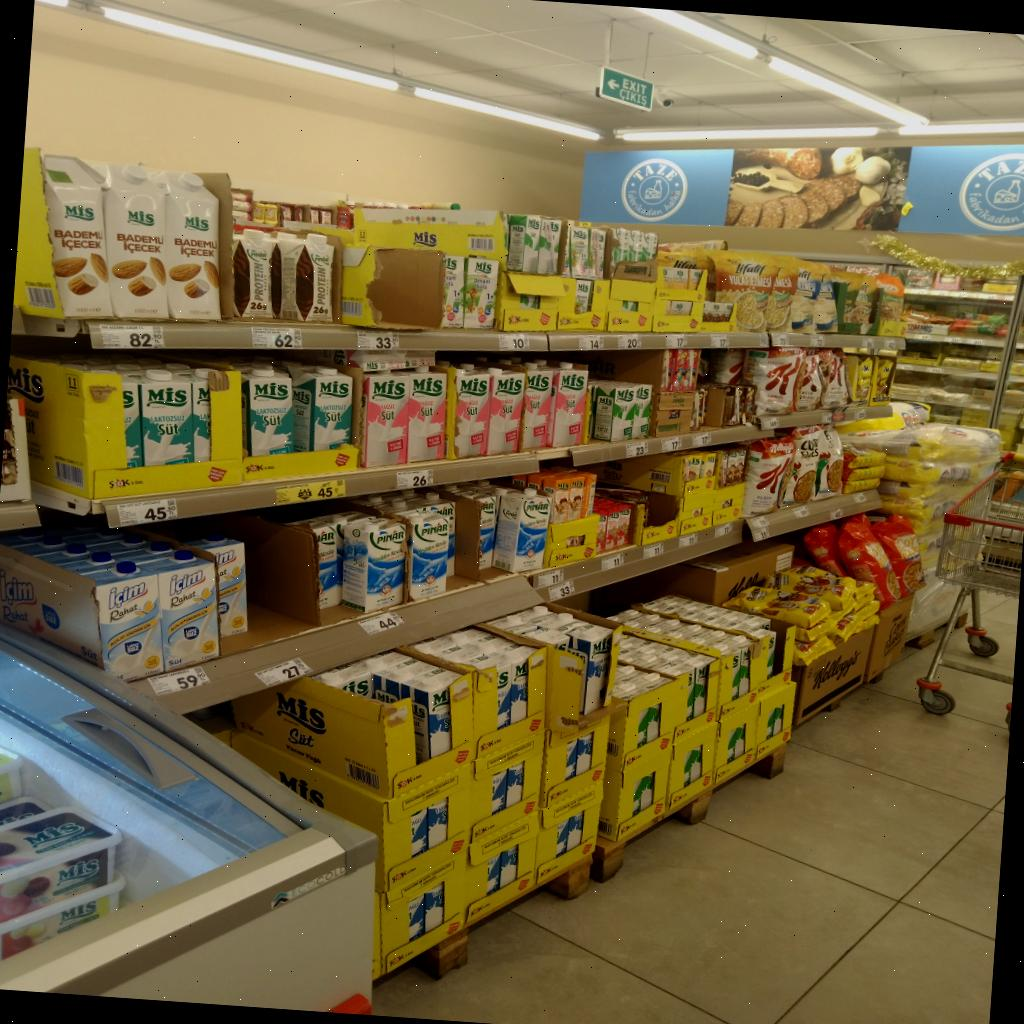price_tag: (148, 666, 209, 696), (276, 479, 345, 505), (116, 498, 177, 526), (100, 324, 164, 349), (256, 657, 311, 686), (251, 327, 303, 350), (359, 612, 404, 634), (357, 331, 399, 350), (397, 469, 433, 489), (499, 334, 530, 351), (537, 569, 564, 588), (548, 581, 574, 600), (601, 553, 623, 571), (665, 333, 689, 349), (662, 435, 683, 453), (578, 335, 603, 350), (617, 334, 642, 349), (626, 441, 647, 457), (715, 521, 736, 537), (643, 543, 663, 559), (678, 532, 698, 548), (691, 432, 712, 447), (709, 334, 730, 348)
product: (42, 156, 113, 318), (100, 164, 169, 318), (156, 171, 221, 320), (156, 548, 219, 672), (96, 572, 161, 678), (186, 532, 247, 638), (344, 517, 411, 612), (139, 368, 194, 466), (272, 233, 332, 322), (293, 366, 352, 452), (292, 515, 342, 609), (494, 488, 550, 571), (360, 373, 409, 467), (242, 367, 293, 457), (405, 511, 449, 600), (233, 229, 276, 318), (407, 368, 447, 463), (453, 366, 491, 458), (485, 367, 525, 454), (548, 363, 587, 446), (520, 362, 551, 450), (463, 257, 499, 329), (592, 381, 635, 441), (122, 366, 144, 467), (508, 214, 541, 273), (594, 498, 629, 553), (472, 490, 496, 568), (191, 368, 211, 461), (441, 255, 465, 327), (537, 216, 562, 275), (540, 475, 570, 524), (567, 470, 595, 521), (566, 222, 591, 277), (631, 384, 652, 438), (588, 227, 606, 278), (582, 472, 600, 517), (740, 385, 758, 427), (574, 278, 593, 316), (724, 385, 742, 425), (673, 348, 689, 392), (686, 349, 700, 393), (615, 229, 634, 261), (660, 348, 674, 391), (626, 231, 646, 260), (716, 450, 730, 488), (688, 268, 710, 292), (685, 454, 703, 482), (736, 448, 750, 484), (691, 392, 704, 430), (702, 451, 718, 479), (657, 264, 674, 290), (726, 449, 738, 485), (672, 266, 690, 290), (645, 233, 658, 259), (671, 300, 688, 317), (710, 302, 724, 322), (722, 302, 734, 324), (700, 301, 712, 322)
